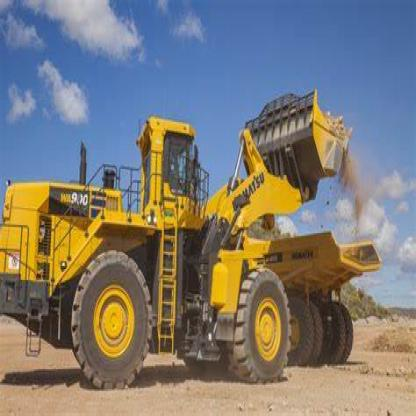bull_dozer/loader/grader: (2, 74, 352, 400)
